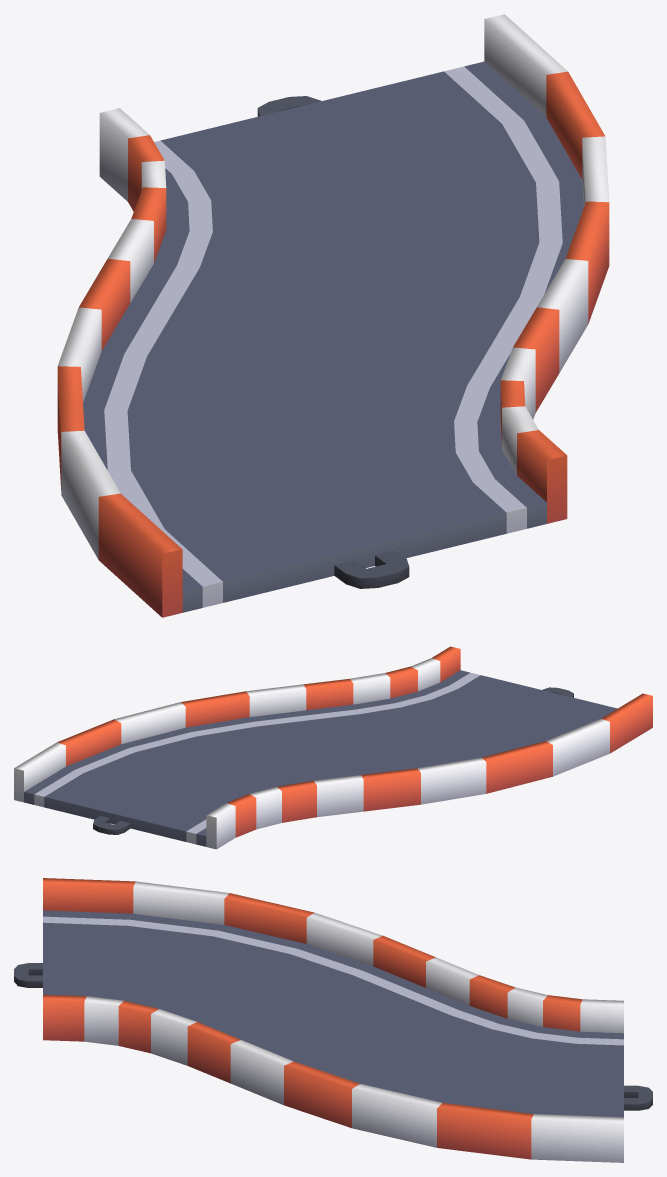
File: track-road-wide-curve.glb
3 renders of one model, top to bottom at view 1: azimuth 30°, elevation 25°; view 2: azimuth 150°, elevation 25°; view 3: azimuth 270°, elevation 25°, orthographic. The views are drawn at different scales.
Parts seen in each view (by area): view 1: track-road-wide-curve; view 2: track-road-wide-curve; view 3: track-road-wide-curve.
Part boxes in pixels (left/top/right/bottom): track-road-wide-curve: left=57, top=14, right=609, bottom=617; track-road-wide-curve: left=14, top=646, right=652, bottom=849; track-road-wide-curve: left=14, top=878, right=652, bottom=1162.
Bounding box in the file's own units: 4 × 0.3 × 4.4.
1 material, 1 textured.
